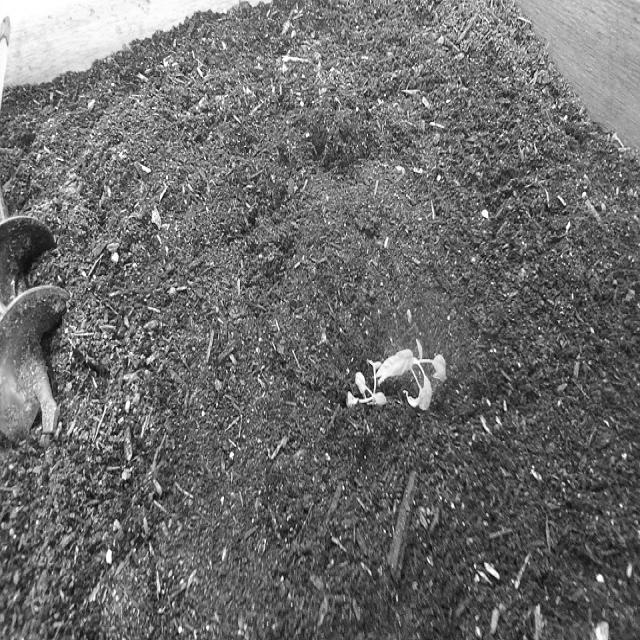Healthy: (345, 333, 451, 420)
